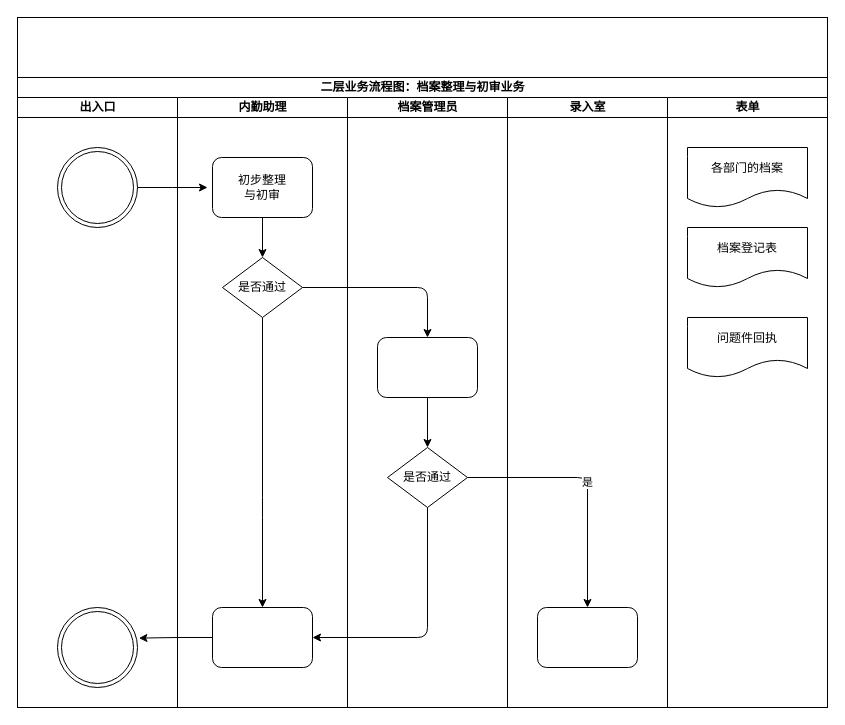
The diagram is 845 pixels wide and 725 high, and some of its shapes have lost their labels. The shapes that lost their labels are listed below. From the top down, each one's centre as x and y in pixels, then its label:
At pixel 422 47: "业务名称：中科院遗传与发育研究所档案整理与初审业务流程图 流程编号：da0101 级别：二级 启动部门：内勤助理".
At pixel 97 187: "开始".
At pixel 427 367: "复审".
At pixel 97 647: "结束".
At pixel 262 637: "问题反馈".
At pixel 587 637: "提交录入室".
